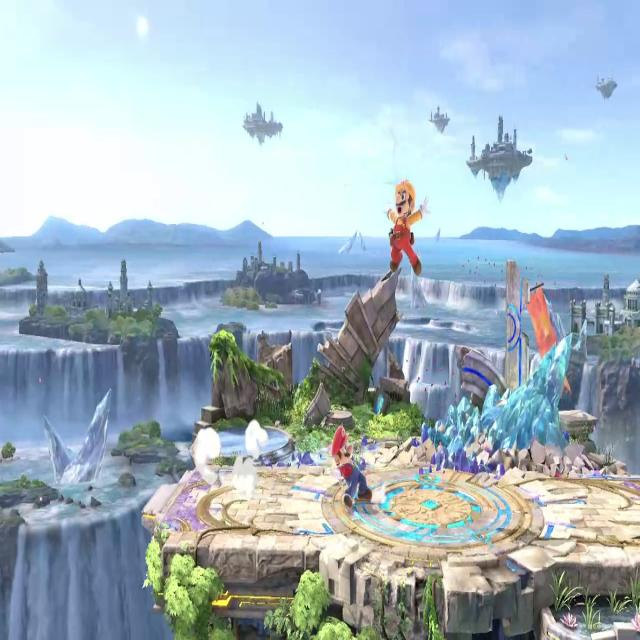Mario: (327, 421, 372, 512)
Mario-Down Air: (378, 171, 432, 281)
